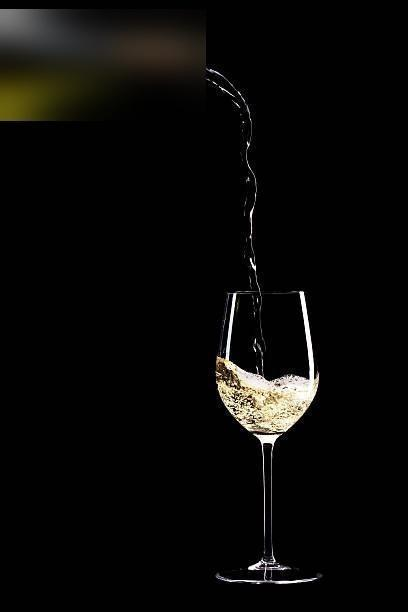glass-wine: (212, 287, 323, 585)
